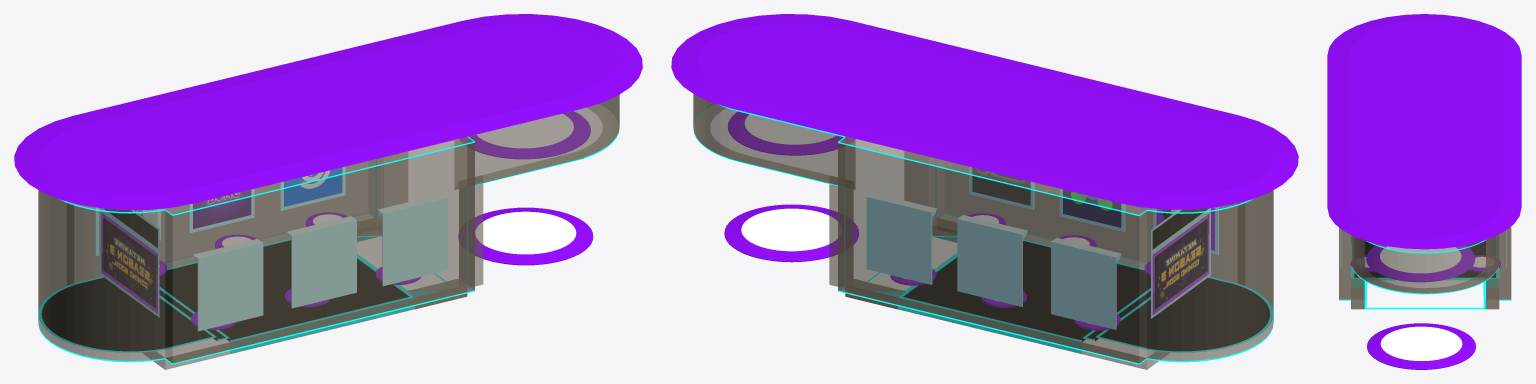
Rendered from ExchangeCenter.glb.
3 views of the same model, side by side, from view 1: azimuth 30°, elevation 25°; view 2: azimuth 150°, elevation 25°; view 3: azimuth 270°, elevation 25° (orthographic). The views are drawn at different scales.
Visible parts, largest first — view 1: Whitepad.012, Whitepad.019, DIsplaying frame.003, Whitepad.011, Whitepad.013, Whitepad.017, Whitepad.007, Whitepad.016, Pad.004; view 2: Whitepad.012, Whitepad.019, DIsplaying frame.003, Whitepad.011, Whitepad.013, Whitepad.017, Whitepad.007, Whitepad.016, Pad.004; view 3: Whitepad.019, Whitepad.012, Whitepad.013, Whitepad.007, Whitepad.011, Whitepad.016, Pad.004.
Part boxes in pixels (x1,y1,x2,y2): Whitepad.012: [38, 95, 619, 369]; Whitepad.019: [14, 14, 642, 210]; DIsplaying frame.003: [95, 167, 447, 330]; Whitepad.011: [38, 235, 446, 353]; Whitepad.013: [458, 207, 593, 265]; Whitepad.017: [100, 208, 159, 317]; Whitepad.007: [459, 111, 590, 158]; Whitepad.016: [38, 104, 619, 364]; Pad.004: [160, 212, 420, 329]; Whitepad.012: [693, 94, 1273, 369]; Whitepad.019: [671, 14, 1298, 209]; DIsplaying frame.003: [867, 167, 1218, 329]; Whitepad.011: [866, 236, 1273, 353]; Whitepad.013: [724, 204, 858, 262]; Whitepad.017: [1151, 208, 1210, 318]; Whitepad.007: [728, 111, 855, 155]; Whitepad.016: [693, 104, 1273, 364]; Pad.004: [890, 213, 1150, 330]; Whitepad.019: [1327, 14, 1521, 249]; Whitepad.012: [1339, 226, 1511, 309]; Whitepad.013: [1367, 323, 1475, 369]; Whitepad.007: [1366, 244, 1474, 281]; Whitepad.011: [1352, 240, 1498, 309]; Whitepad.016: [1339, 239, 1511, 300]; Pad.004: [1351, 255, 1500, 272].
Size of what is drawn, in the model's own units: 45.93 by 13 by 16.
